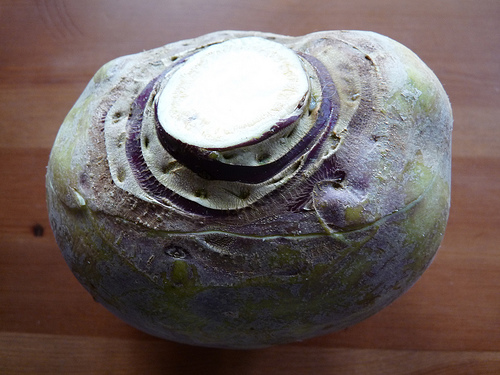turnip: (45, 27, 456, 348)
